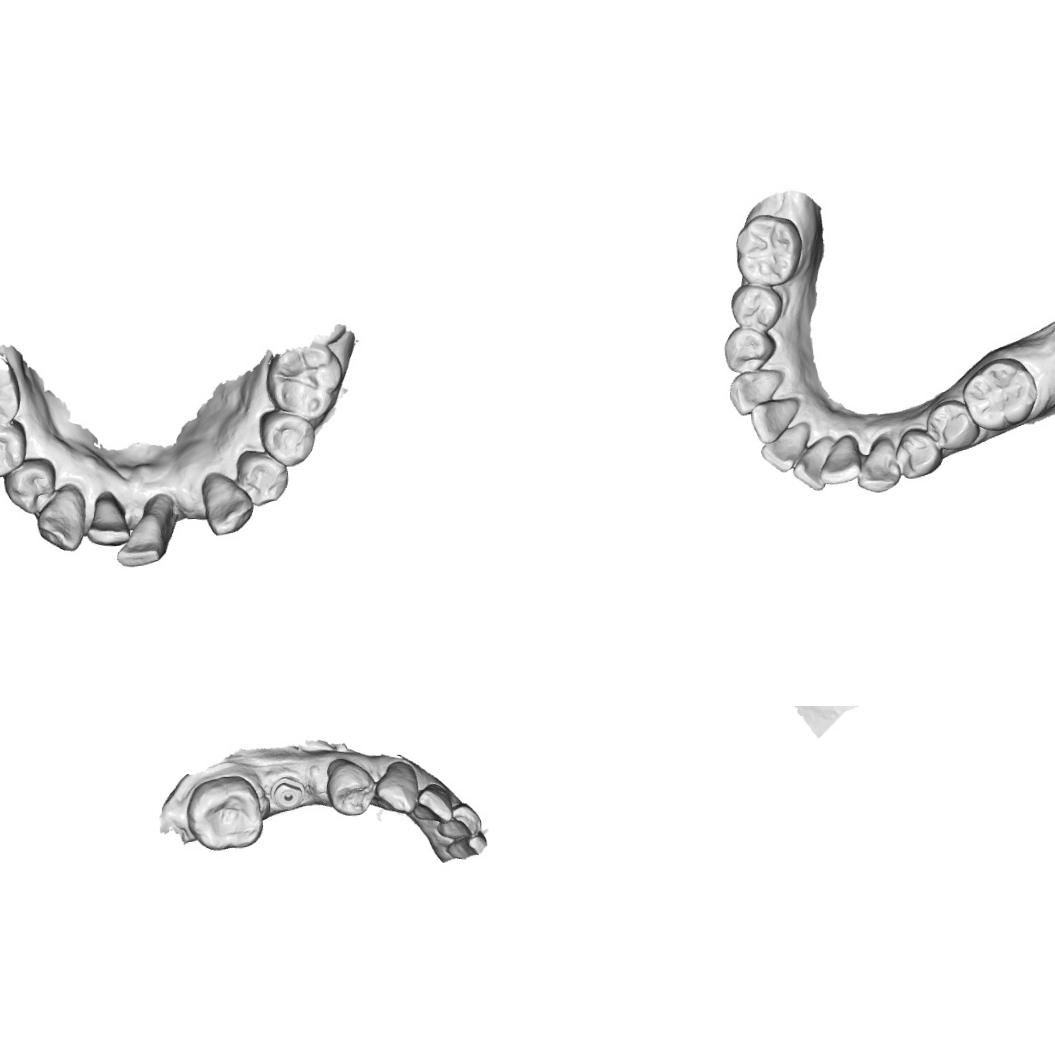canine: (32, 480, 89, 554), (197, 468, 256, 538), (727, 368, 786, 416), (855, 434, 902, 494), (372, 760, 420, 816)
implant: (266, 774, 306, 811)
incisor: (111, 509, 167, 570), (757, 420, 813, 474), (84, 486, 132, 548), (790, 434, 836, 492), (816, 432, 862, 486), (749, 398, 798, 444), (434, 800, 482, 840), (411, 781, 454, 825), (444, 829, 488, 860)
molar: (262, 343, 346, 425), (182, 772, 264, 852), (959, 355, 1039, 432), (732, 211, 804, 288), (0, 361, 24, 439)
premolar: (255, 408, 317, 470), (0, 455, 58, 519), (232, 445, 290, 509), (323, 754, 377, 818), (923, 397, 981, 451), (728, 280, 784, 334), (720, 324, 778, 374), (892, 426, 945, 479), (0, 418, 31, 481)
